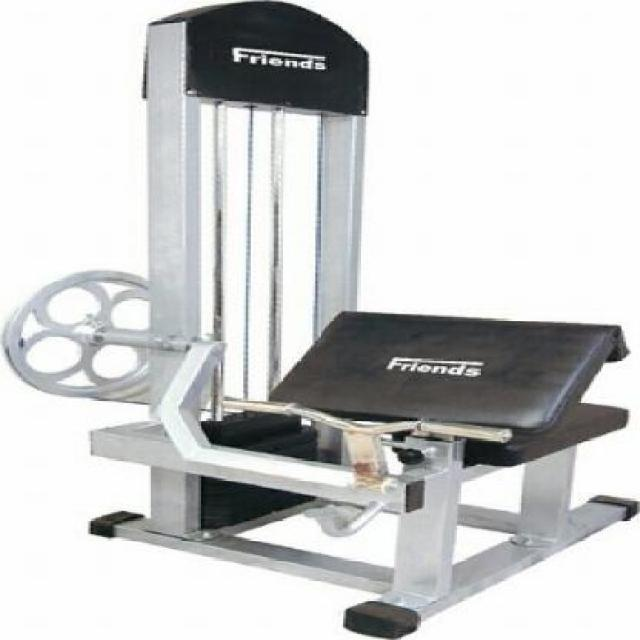arm curl machine: (9, 1, 640, 637)
